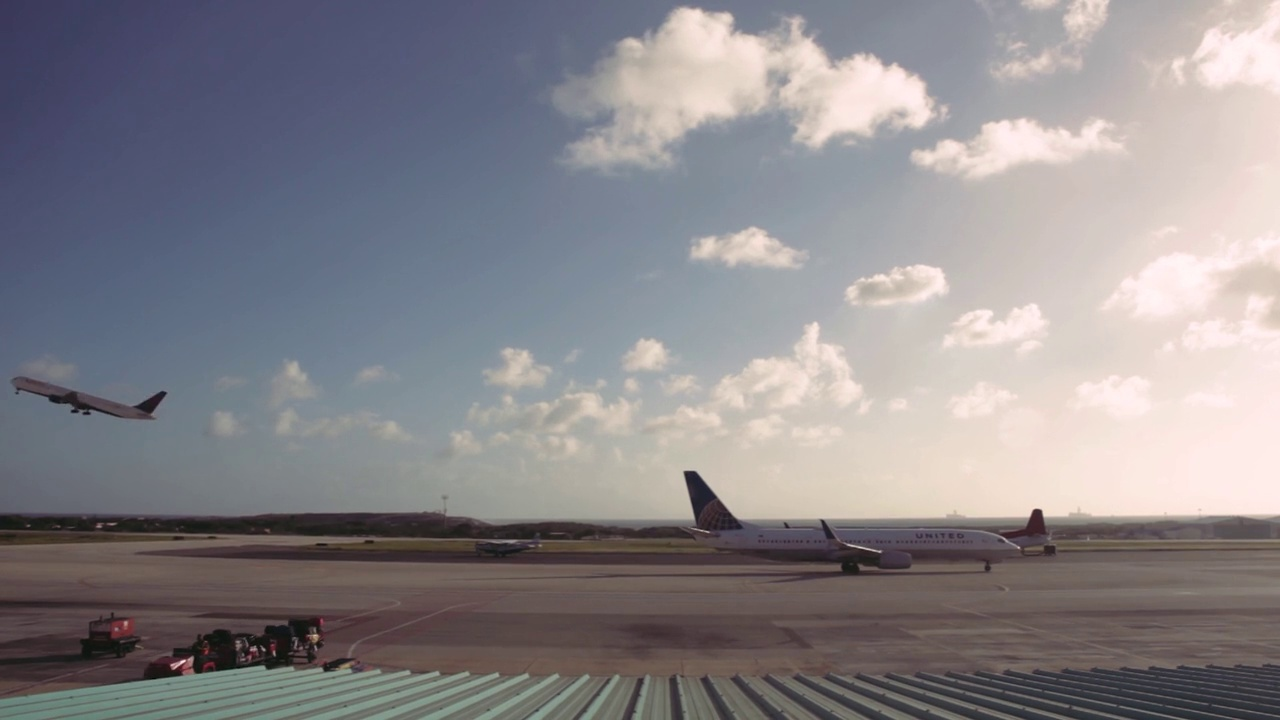plane: (676, 469, 1024, 574), (9, 369, 168, 420), (475, 532, 540, 556)
